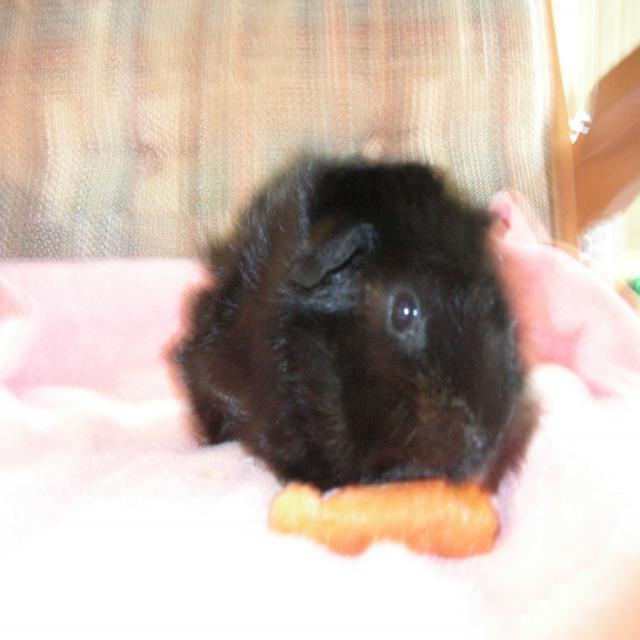rat: (162, 144, 534, 482)
